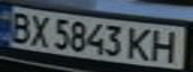3: (103, 21, 127, 59)
4: (84, 20, 106, 56)
5: (48, 16, 72, 51)
8: (66, 18, 87, 53)
B: (3, 8, 36, 44)
H: (148, 27, 184, 64)
K: (124, 25, 157, 62)
X: (24, 11, 54, 48)
